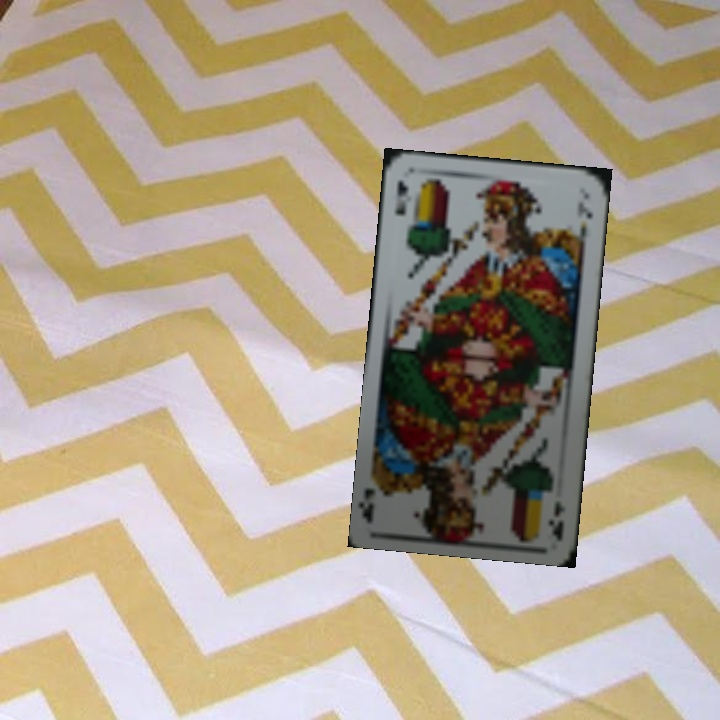EK: (544, 496, 568, 540), (390, 177, 411, 219)
